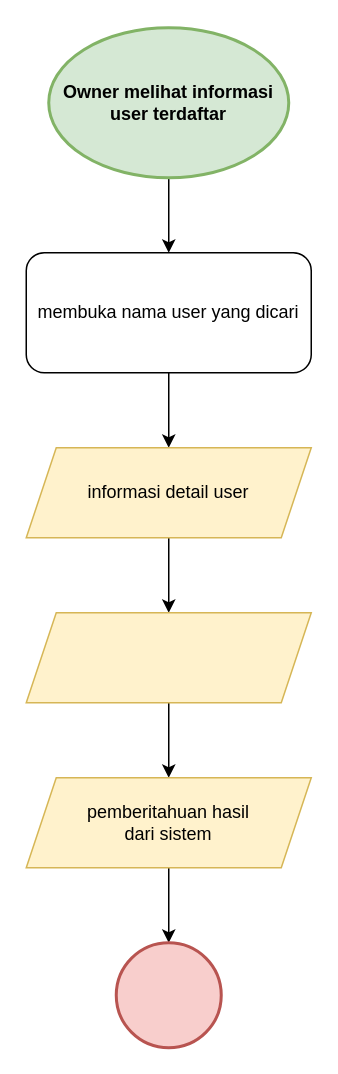
This 338x1074 diagram has some shape labels left out. Each missing label, with the centre of its shape:
End: point (168, 994)
menekan button "assign as staff": point (168, 657)
